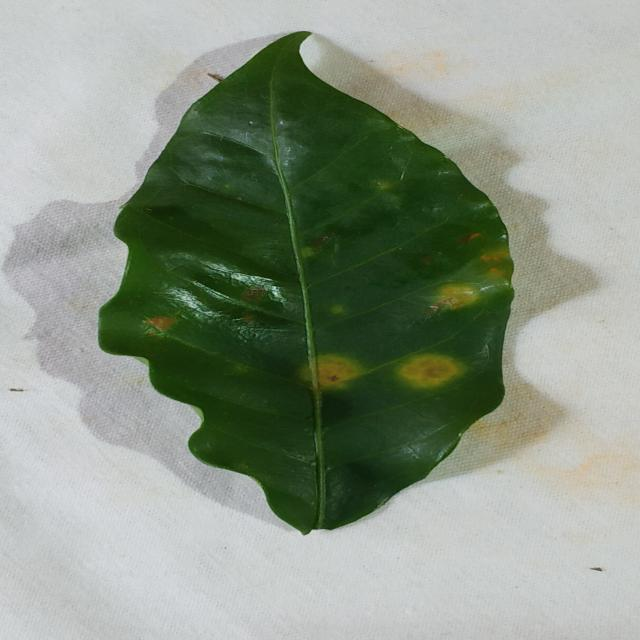Enfermedad-Roya: (96, 31, 515, 536)
